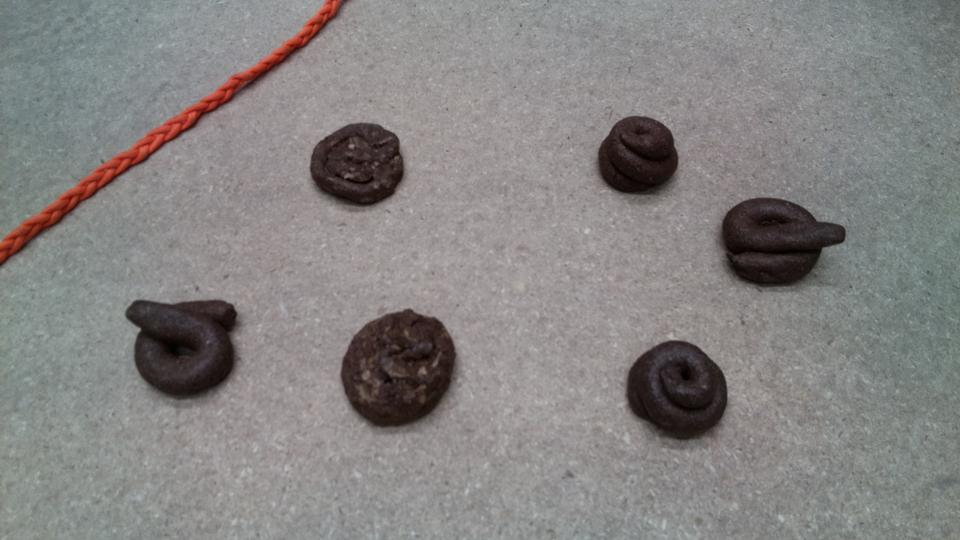poop: (338, 306, 457, 430), (123, 294, 241, 401), (718, 193, 846, 287), (623, 336, 731, 443), (308, 119, 408, 211), (595, 113, 681, 199)
rope: (1, 1, 328, 251)
